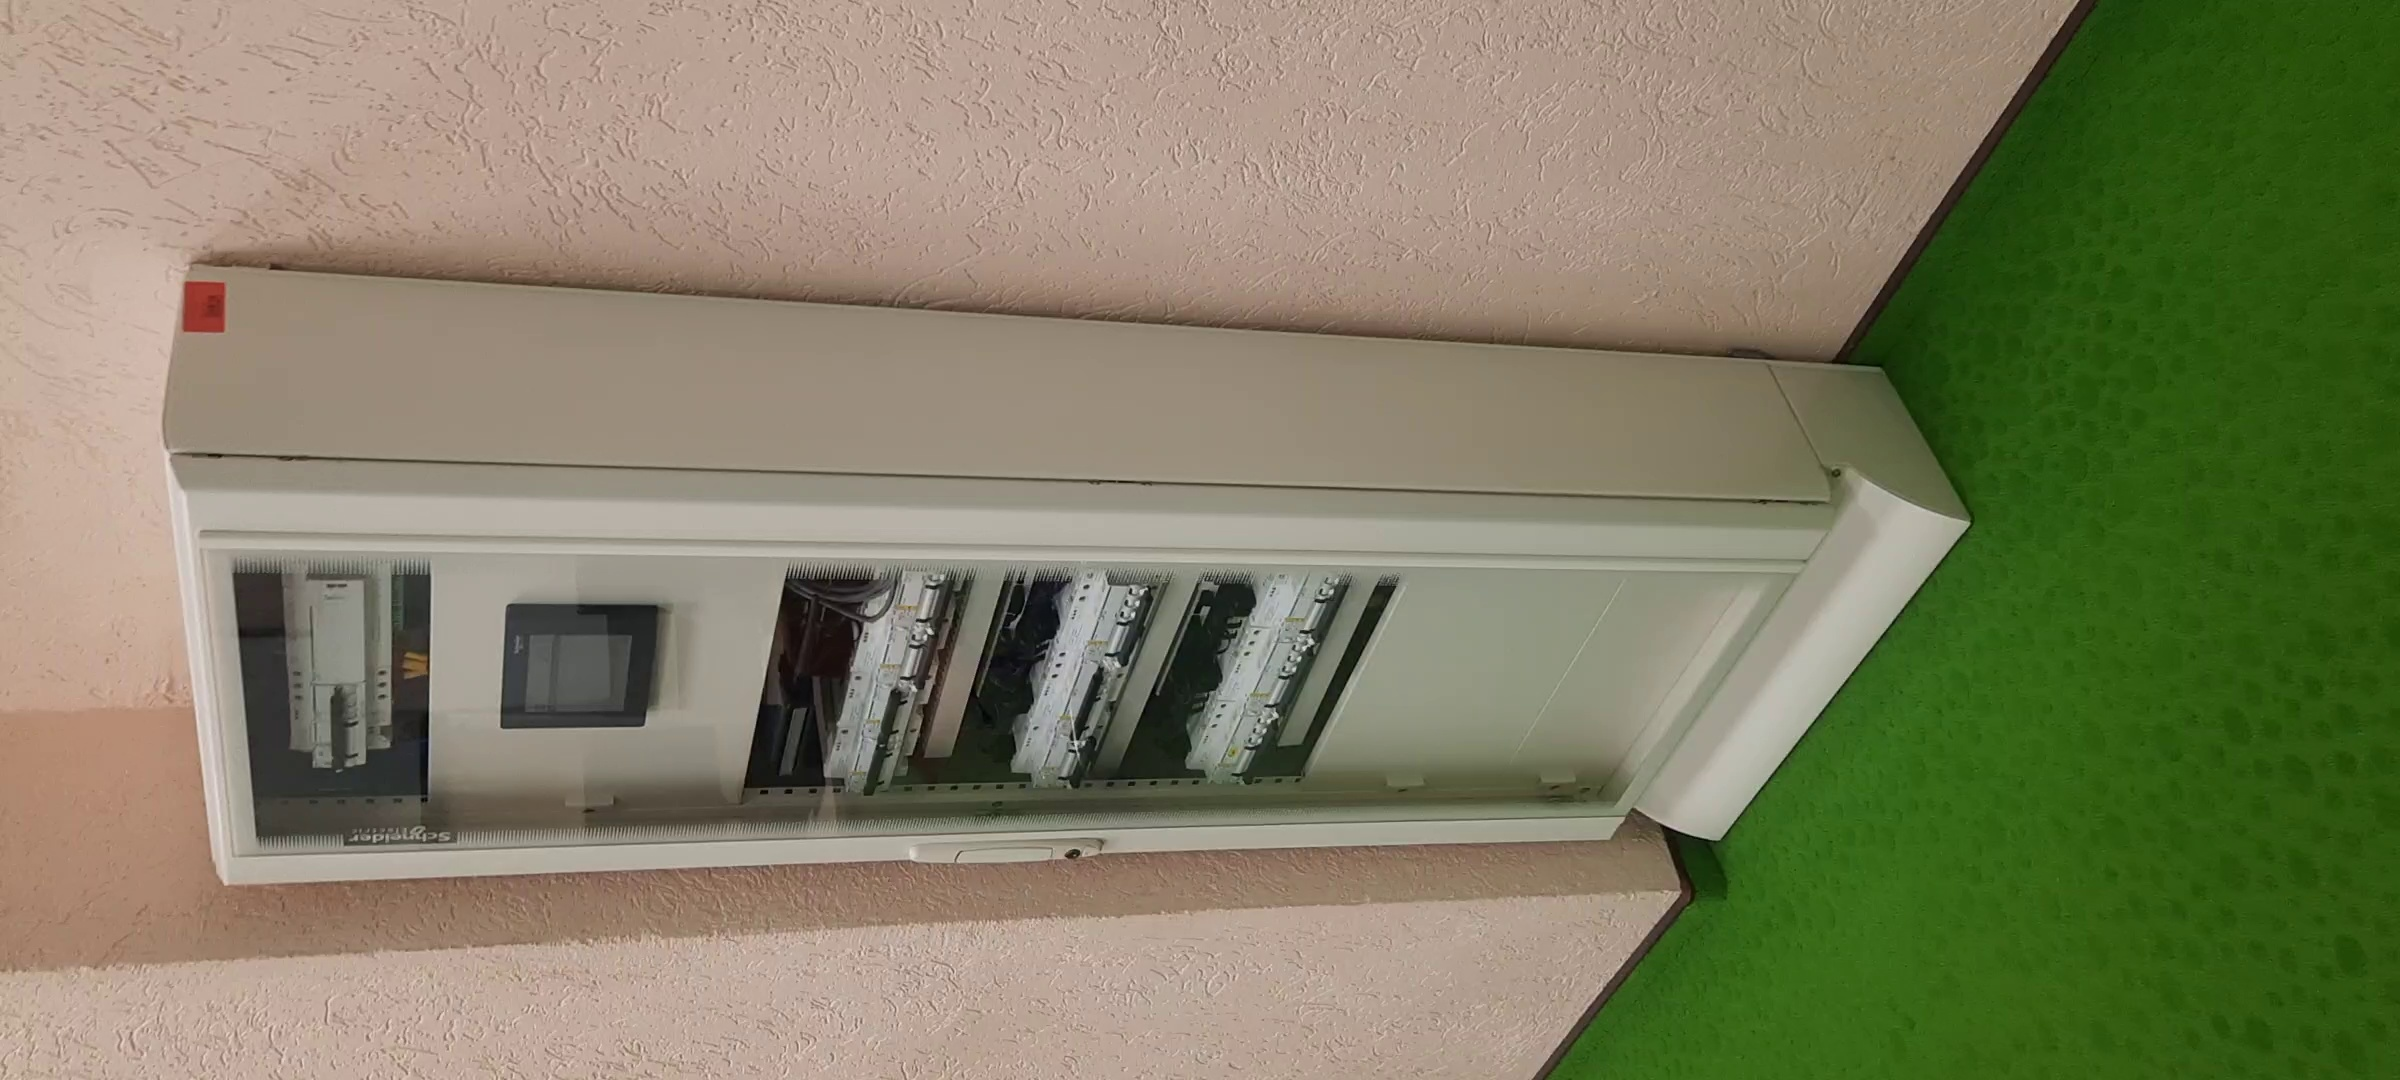smart_stand: (168, 291, 1952, 887)
